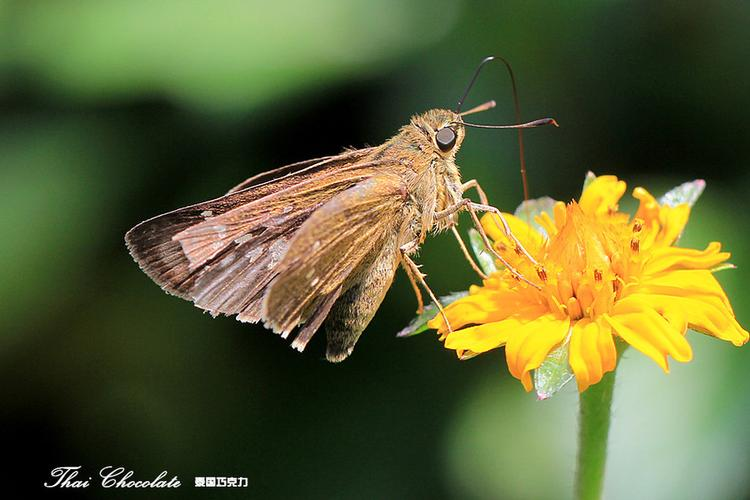Hesperiidae: (120, 54, 560, 368)
